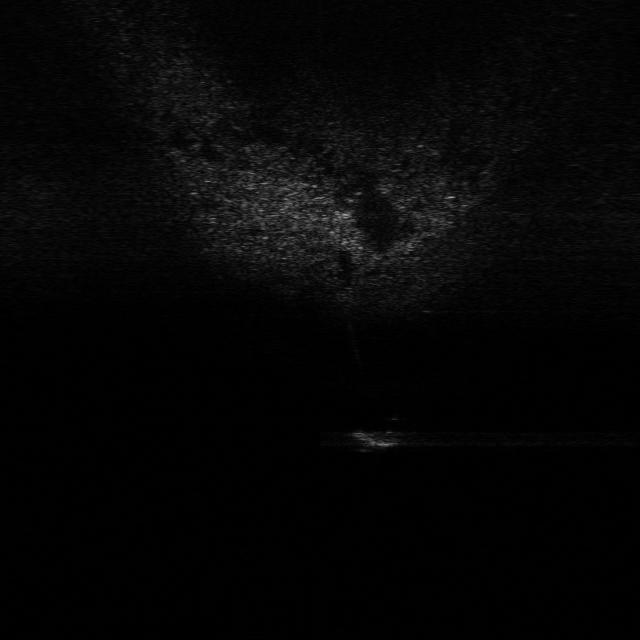cube: (347, 416, 411, 458)
